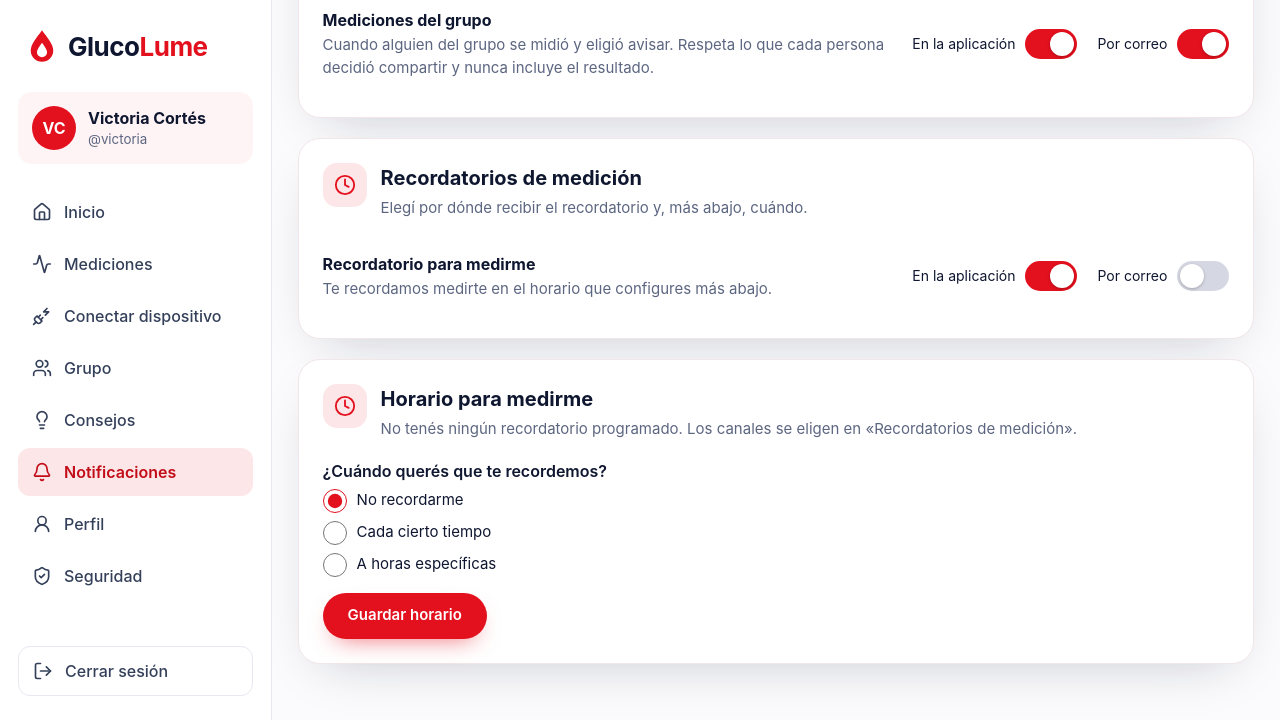
it: Preferencias de notificaciones › un horario repetido se avisa antes de enviar
The width and height of the screenshot is (1280, 720).
(page scrolled)
Click the radio button labelled "A horas específicas": (335, 565) x1=323 y1=553 x2=347 y2=577
(page scrolled)
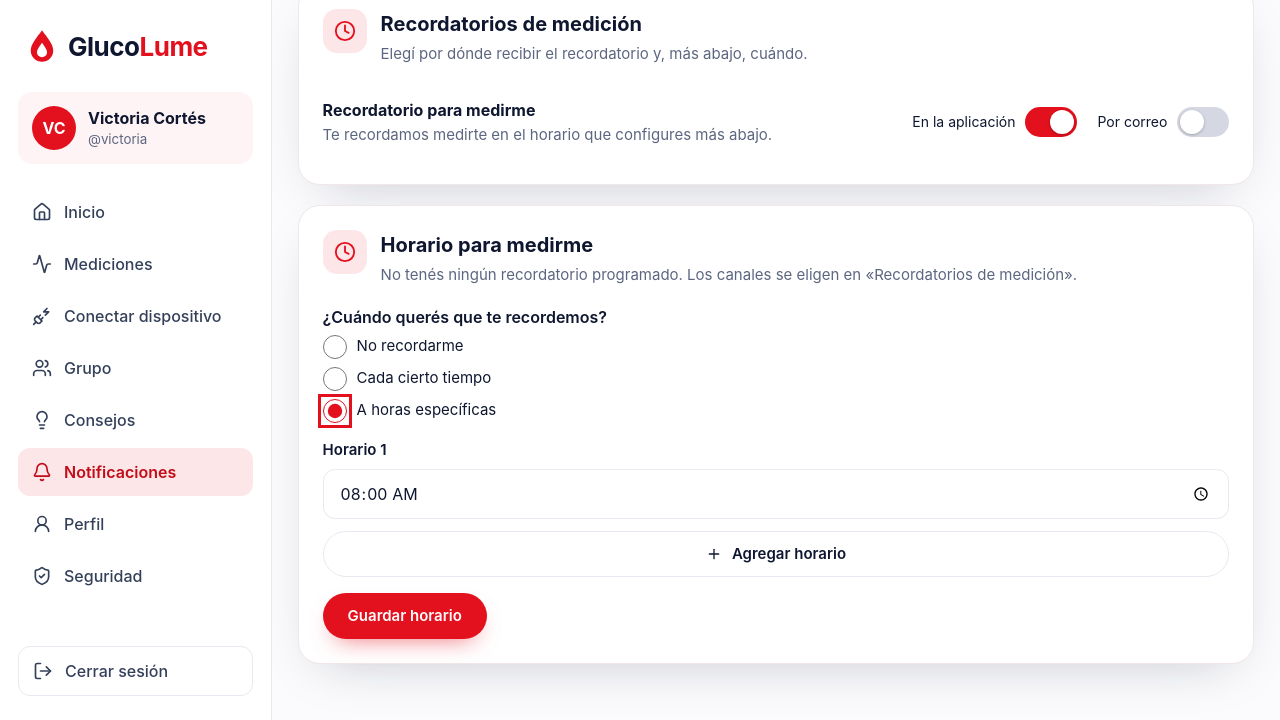
Click the button "Agregar horario": (776, 554) x1=323 y1=531 x2=1229 y2=577
(page scrolled)
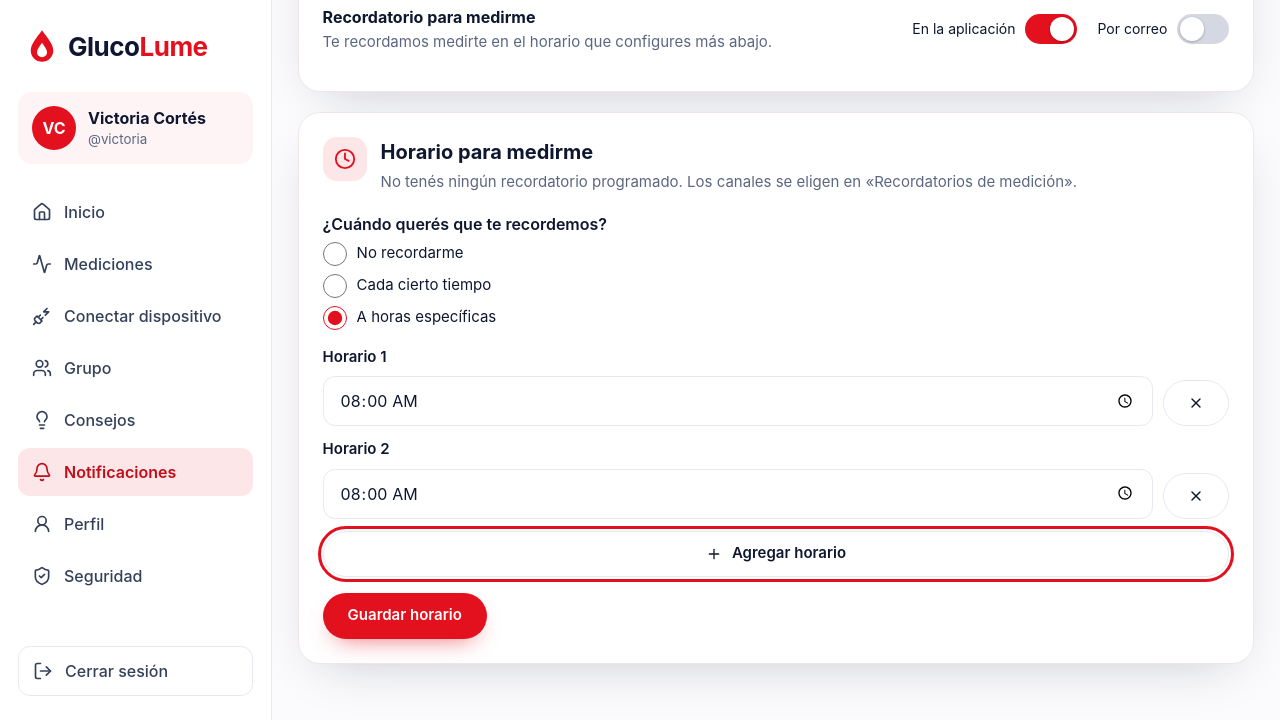
Click the button "Guardar horario": (405, 616) x1=323 y1=593 x2=487 y2=639
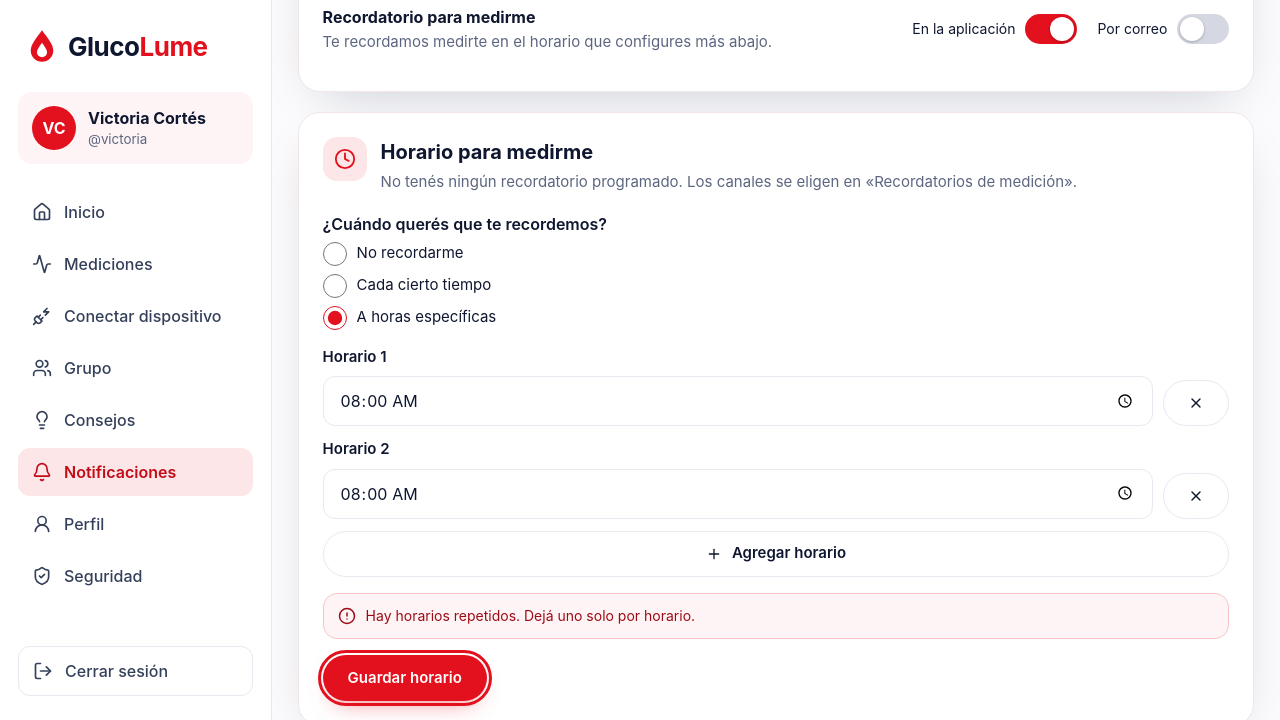
Check: the text "Hay horarios repetidos. Dejá uno solo por horario." is shown, box x1=366 y1=606 x2=695 y2=626
